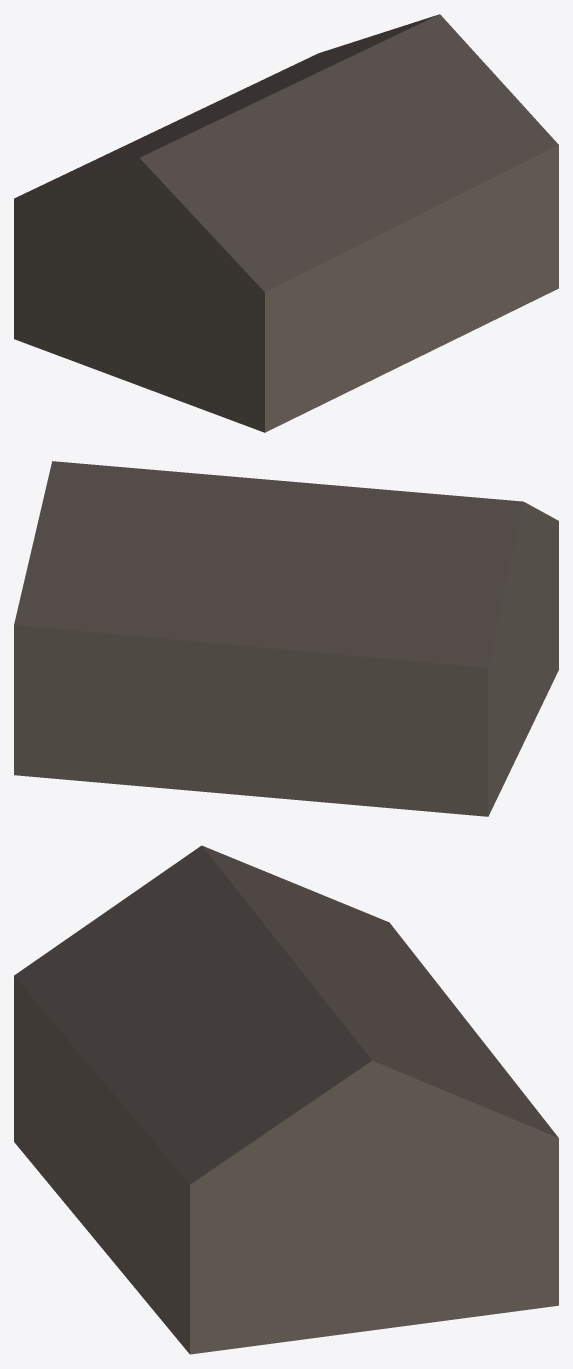
3 views of the same model, one above another, from view 1: azimuth 30°, elevation 25°; view 2: azimuth 150°, elevation 25°; view 3: azimuth 270°, elevation 25° (orthographic). The views are drawn at different scales.
Visible parts, largest first — view 1: HP-w859488930; view 2: HP-w859488930; view 3: HP-w859488930.
Part boxes in pixels (<box>): HP-w859488930: <box>14,14,558,432</box>; HP-w859488930: <box>14,461,558,816</box>; HP-w859488930: <box>14,845,558,1354</box>.
Size of the model in its own units: 20.58 by 9.74 by 17.83.
